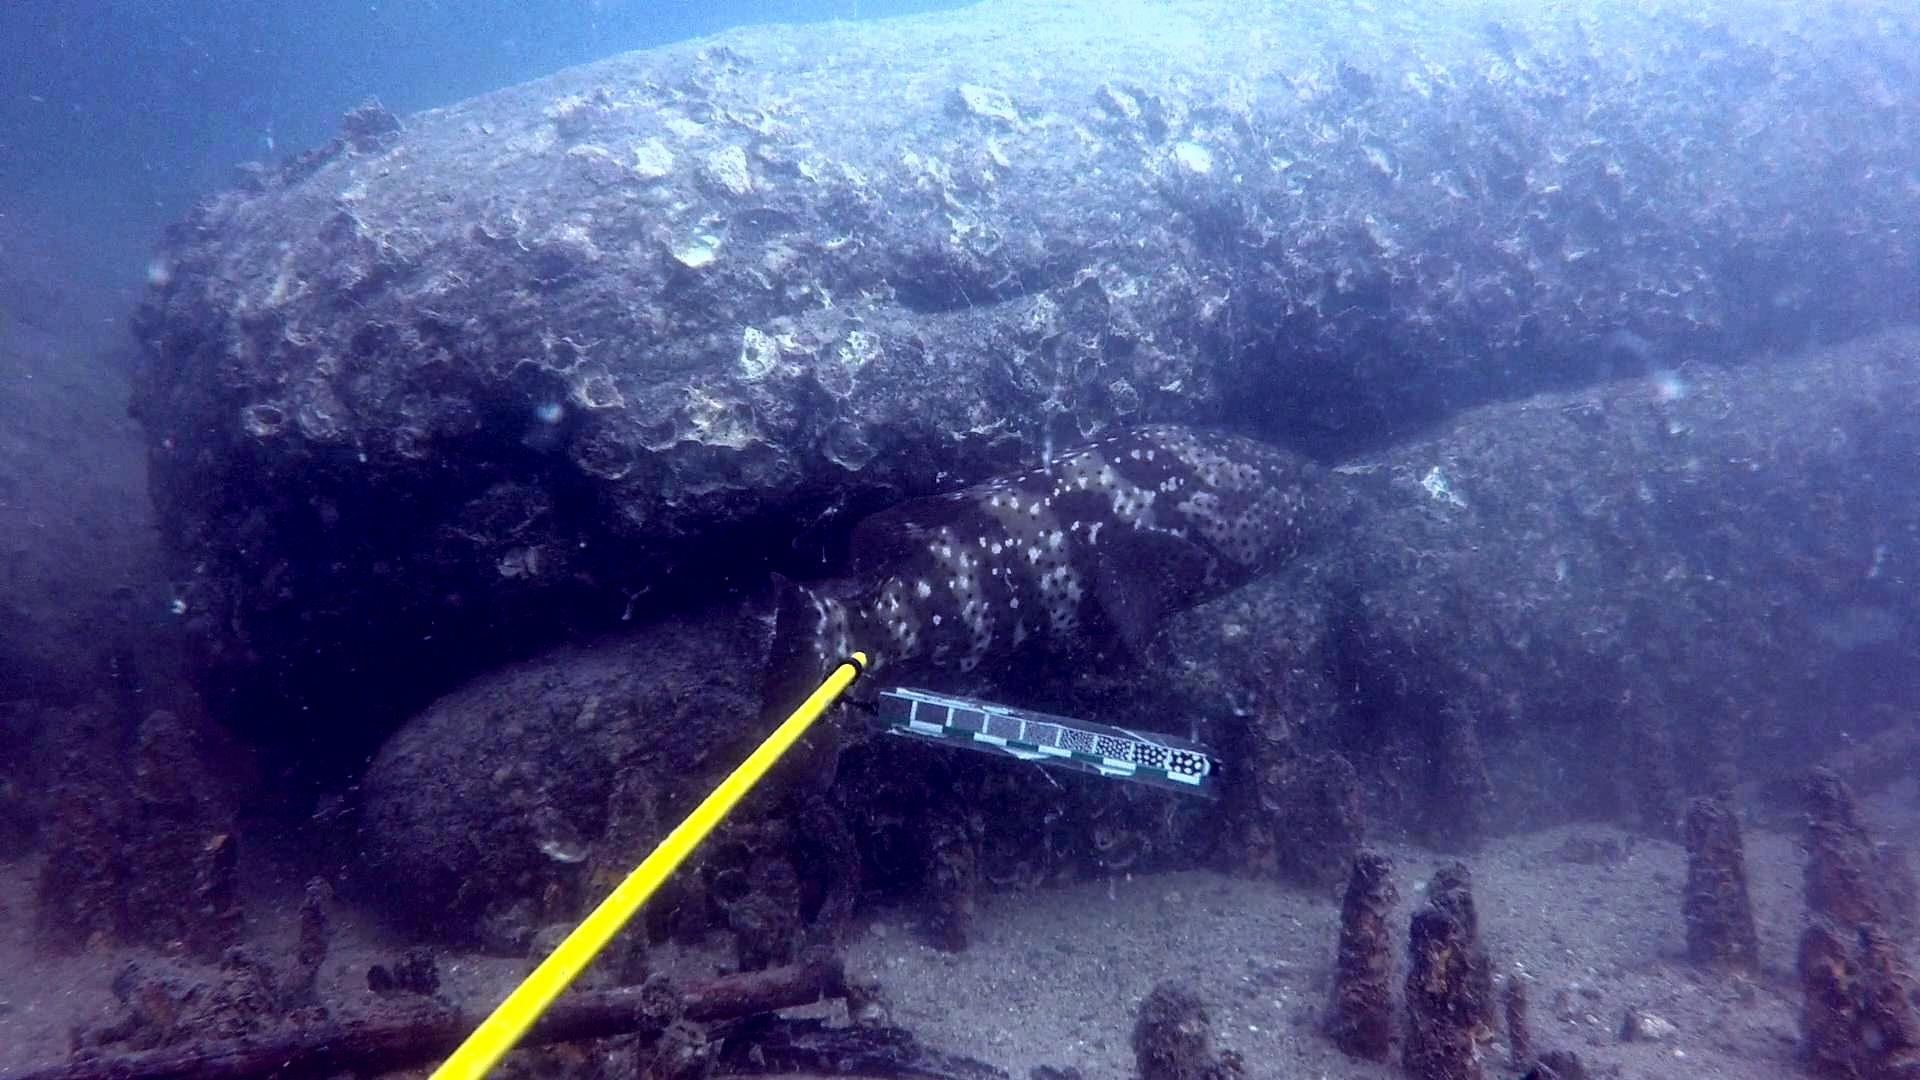epinephelus: (756, 410, 1377, 796)
